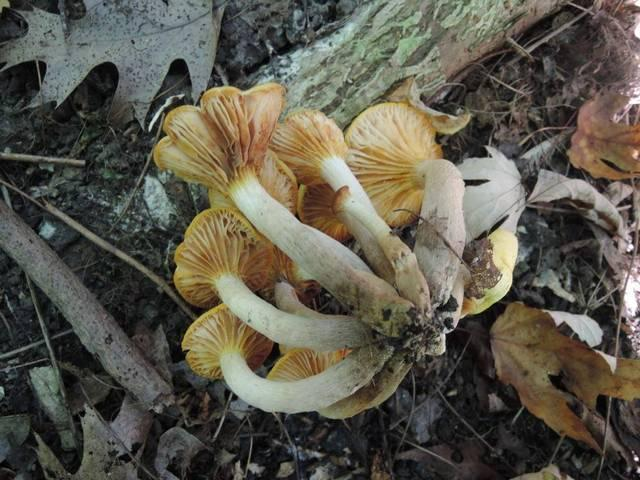Edible Mushroom: (152, 81, 474, 419)
